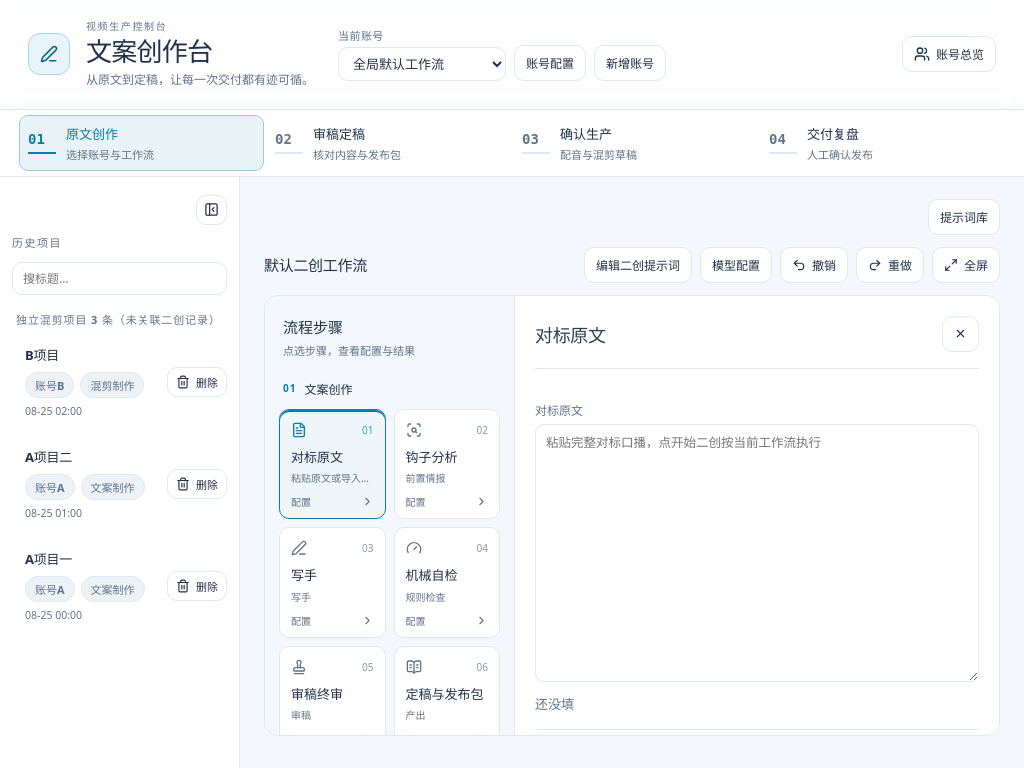
Scenario: history projects group by account and filter after switching to A
expect the button "A项目一 账号A 文案制作 08-25 00:00" is shown: met, box [12,539,163,634]
expect the button "A项目二 账号A 文案制作 08-25 01:00" is shown: met, box [12,437,163,531]
Select "账号A" in the dropdown named "切换账号工作流" at coordinates (422, 64), box [338,47,506,81]
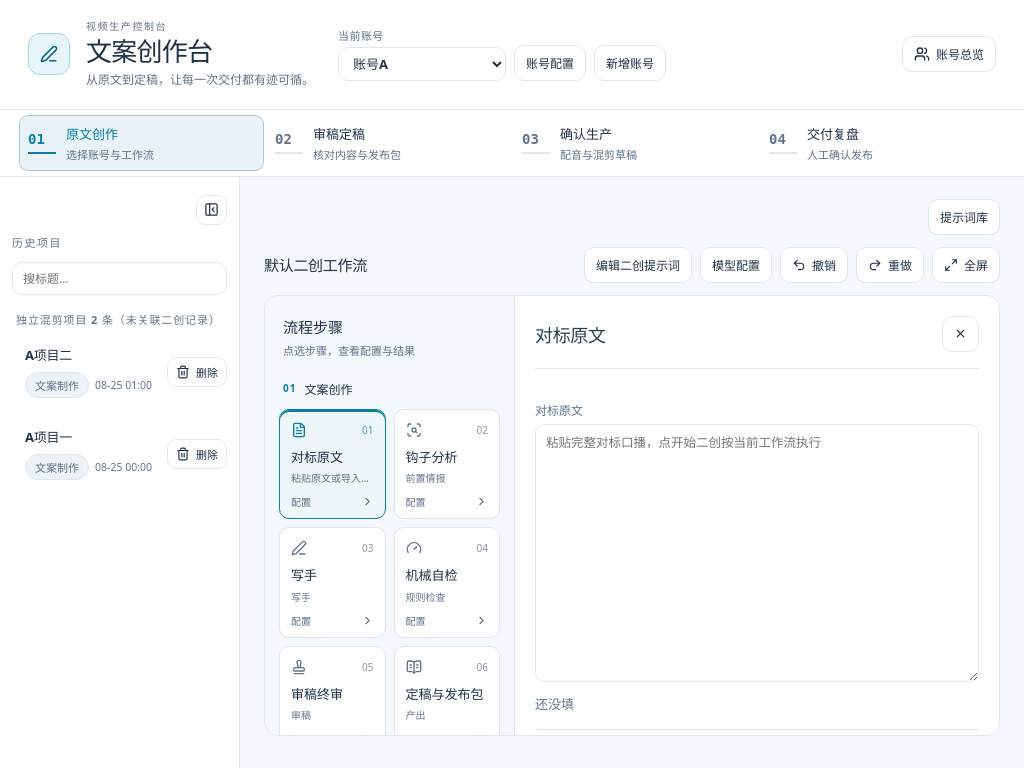
expect the button "A项目一 文案制作 08-25 00:00" is shown: met, box [12,417,163,491]
expect the button "B项目" is gone: met
